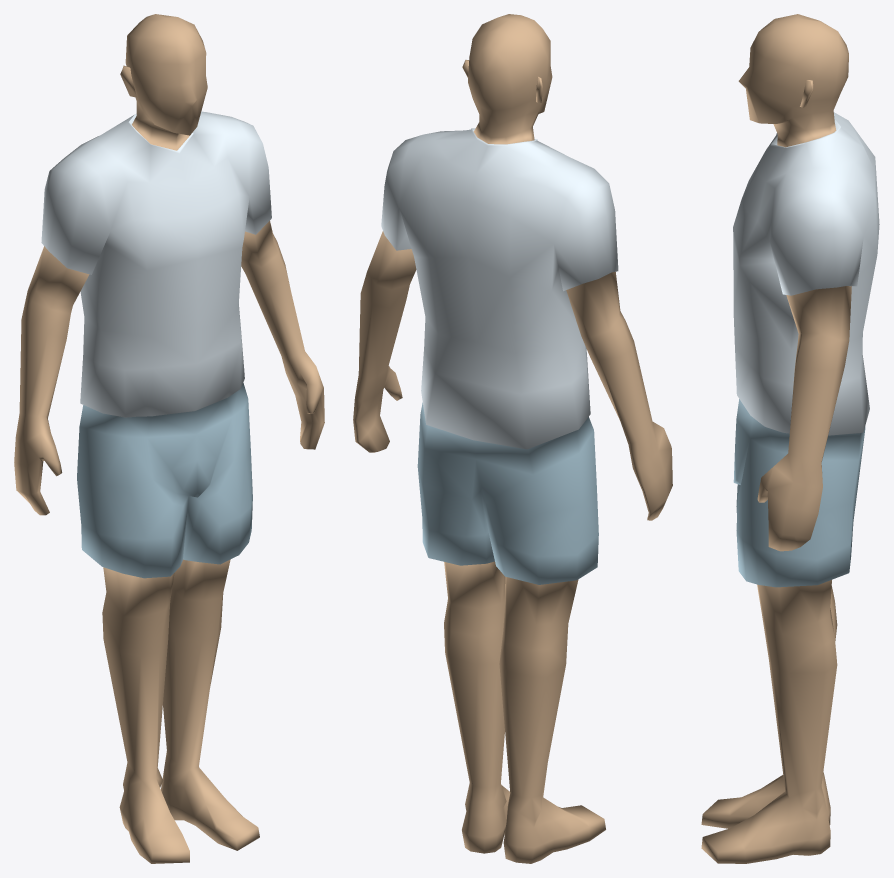
File: man.dae
3 views of the same model, side by side, from view 1: azimuth 30°, elevation 25°; view 2: azimuth 150°, elevation 25°; view 3: azimuth 270°, elevation 25° (orthographic). The views are drawn at different scales.
Visible parts, largest first — view 1: dude.002; view 2: dude.002; view 3: dude.002.
Part boxes in pixels (left/top/right/bottom): dude.002: left=14, top=14, right=324, bottom=863; dude.002: left=353, top=14, right=672, bottom=863; dude.002: left=701, top=14, right=879, bottom=863.
Size of the model in its own units: 0.7405 by 0.385 by 1.96.
